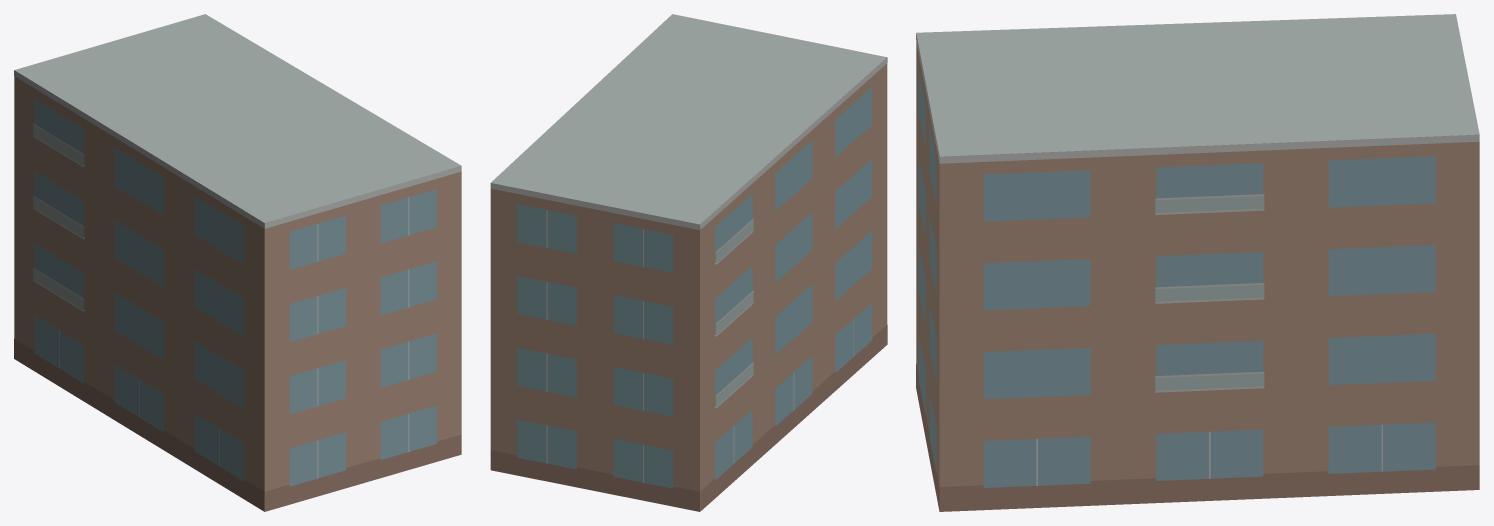
The model's file is survey-upis-32994085.glb.
3 renders of one model, left to right at view 1: azimuth 30°, elevation 25°; view 2: azimuth 150°, elevation 25°; view 3: azimuth 270°, elevation 25°, orthographic. The views are drawn at different scales.
Parts seen in each view (by area): view 1: survey-upis-32994085.tmp; view 2: survey-upis-32994085.tmp; view 3: survey-upis-32994085.tmp.
Part boxes in pixels (x1,y1,x2,y2): survey-upis-32994085.tmp: [14, 14, 461, 511]; survey-upis-32994085.tmp: [490, 14, 887, 511]; survey-upis-32994085.tmp: [916, 14, 1479, 511].
Size of the model in its own units: 10.52 by 12.2 by 17.55.
